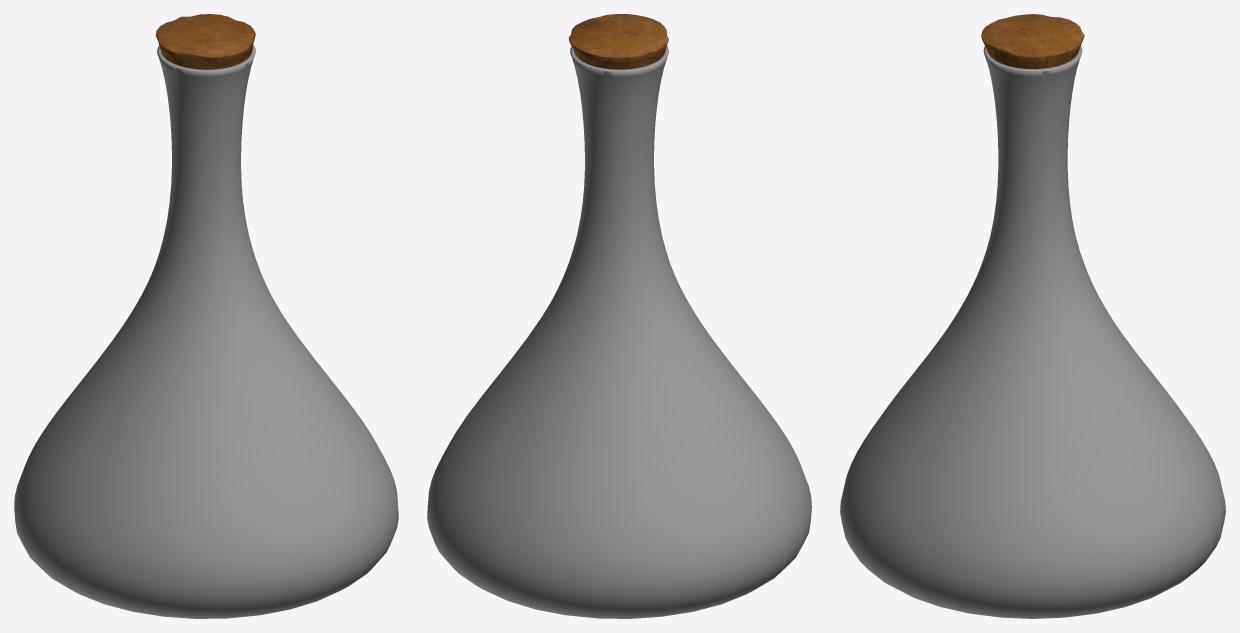
Rendered from carafe.glb.
3 views of the same model, side by side, from view 1: azimuth 30°, elevation 25°; view 2: azimuth 150°, elevation 25°; view 3: azimuth 270°, elevation 25° (orthographic).
Visible parts, largest first — view 1: Object_3, Object_2; view 2: Object_3, Object_2; view 3: Object_3, Object_2.
Boxes of the visible parts, x1,y1,x2,y2 form: Object_3: (14, 45, 398, 618); Object_2: (155, 14, 255, 69); Object_3: (427, 46, 811, 618); Object_2: (568, 14, 668, 69); Object_3: (840, 46, 1225, 618); Object_2: (981, 14, 1084, 68).
Size of the model in its own units: 25.76 by 39.31 by 25.76.
2 materials, 2 textured.
